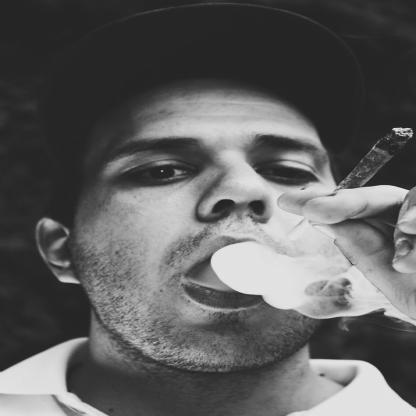smoking: (285, 127, 414, 240)
